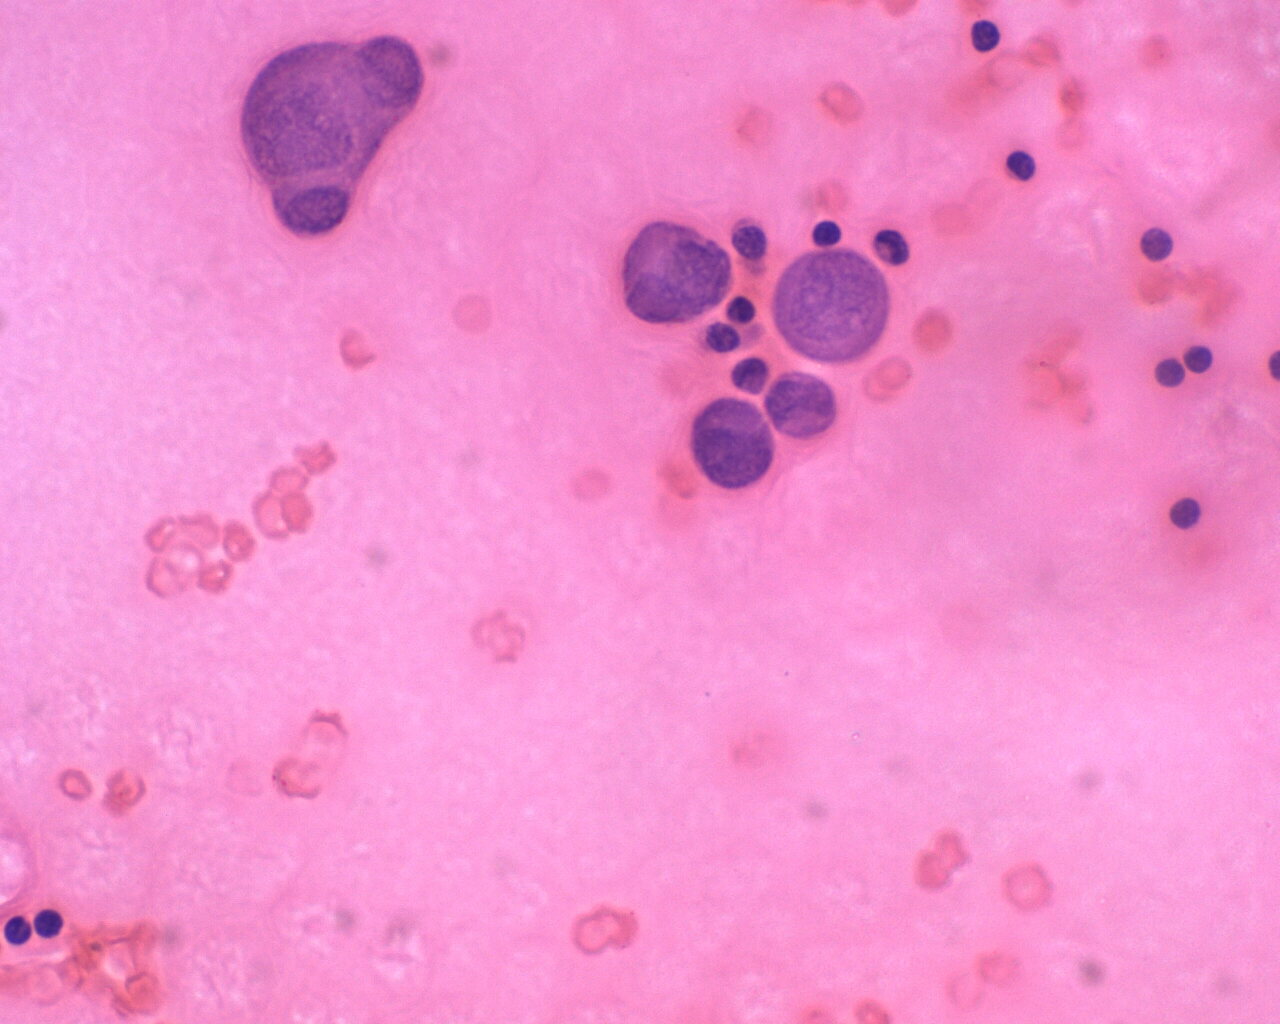ab: (235, 34, 426, 242), (770, 247, 895, 362), (624, 211, 734, 330), (688, 392, 776, 494), (763, 365, 836, 444)
lymph: (1133, 216, 1180, 266), (965, 11, 1009, 63), (1164, 485, 1205, 538), (1180, 335, 1221, 380), (27, 904, 68, 944), (1002, 145, 1039, 189), (806, 213, 847, 251)
